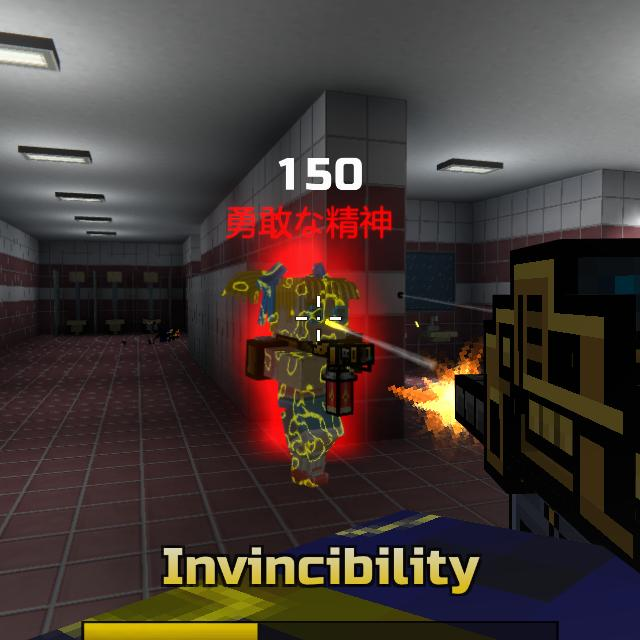Enemy: (244, 277, 375, 489)
